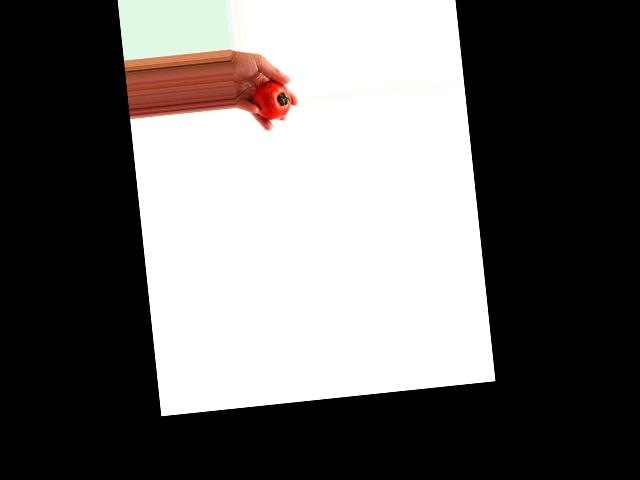tomato: (251, 79, 292, 121)
